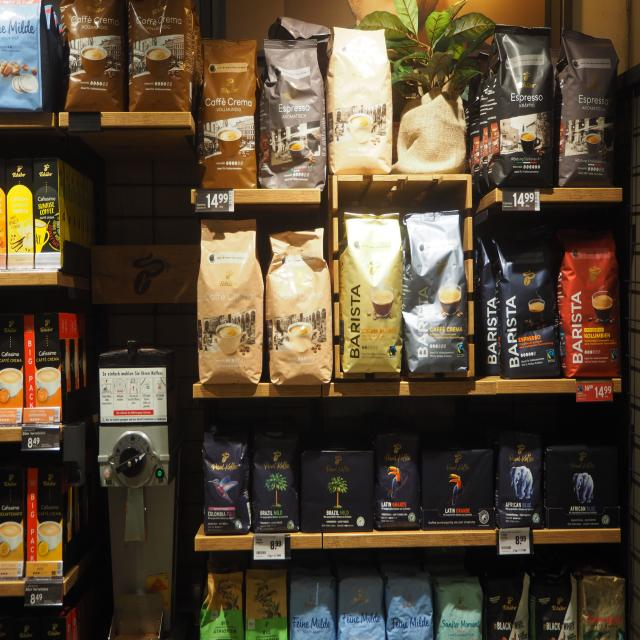AB Bohne: (494, 431, 544, 530)
AB Gemahlen: (543, 443, 622, 530)
Athiopien Bohne: (198, 568, 246, 640)
Athiopien Gemahlen: (245, 567, 290, 640)
BM Bohne: (250, 423, 299, 536)
BM Gemahlen: (298, 447, 376, 534)
BW Bohne: (530, 566, 578, 638), (482, 570, 532, 638)
Barista CB: (336, 210, 404, 376)
Barista CC: (400, 208, 470, 377)
Barista Espresso: (488, 226, 561, 378)
Barista Kolumbien: (554, 226, 626, 379)
C Fino Bohne: (200, 426, 251, 536)
CC Mild: (195, 217, 265, 386), (264, 226, 334, 388), (322, 23, 394, 176)
CC Vollmundig 36 Pads: (195, 36, 259, 190), (125, 0, 195, 117), (59, 0, 126, 114)
Colombia BB Bohne: (577, 567, 625, 640)
Espresso Aromatisch: (554, 24, 623, 190), (256, 36, 328, 193)
Espresso Kraftig: (486, 22, 554, 190)
FM 36 Pads: (0, 0, 48, 115)
FM Bohne: (383, 570, 436, 640), (336, 573, 386, 640), (288, 578, 337, 638)
LG Bohne: (373, 431, 423, 532)
LG Gemahlen: (421, 446, 495, 530)
SM Bohne: (434, 576, 483, 638)
Simo CCMild: (26, 465, 72, 578)
Simo CCVollmundig: (22, 312, 63, 423)
Simo CCVollmundig bigpack: (0, 311, 25, 425)
Simo Es Vanilla: (6, 157, 34, 273)
Simo Sunrise: (34, 158, 66, 272)
